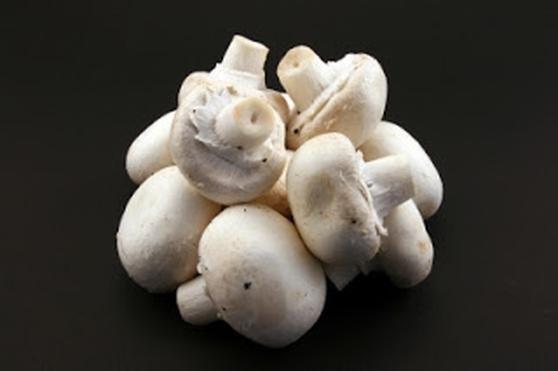champignon: (174, 199, 330, 348), (287, 138, 420, 264), (169, 94, 295, 205)
